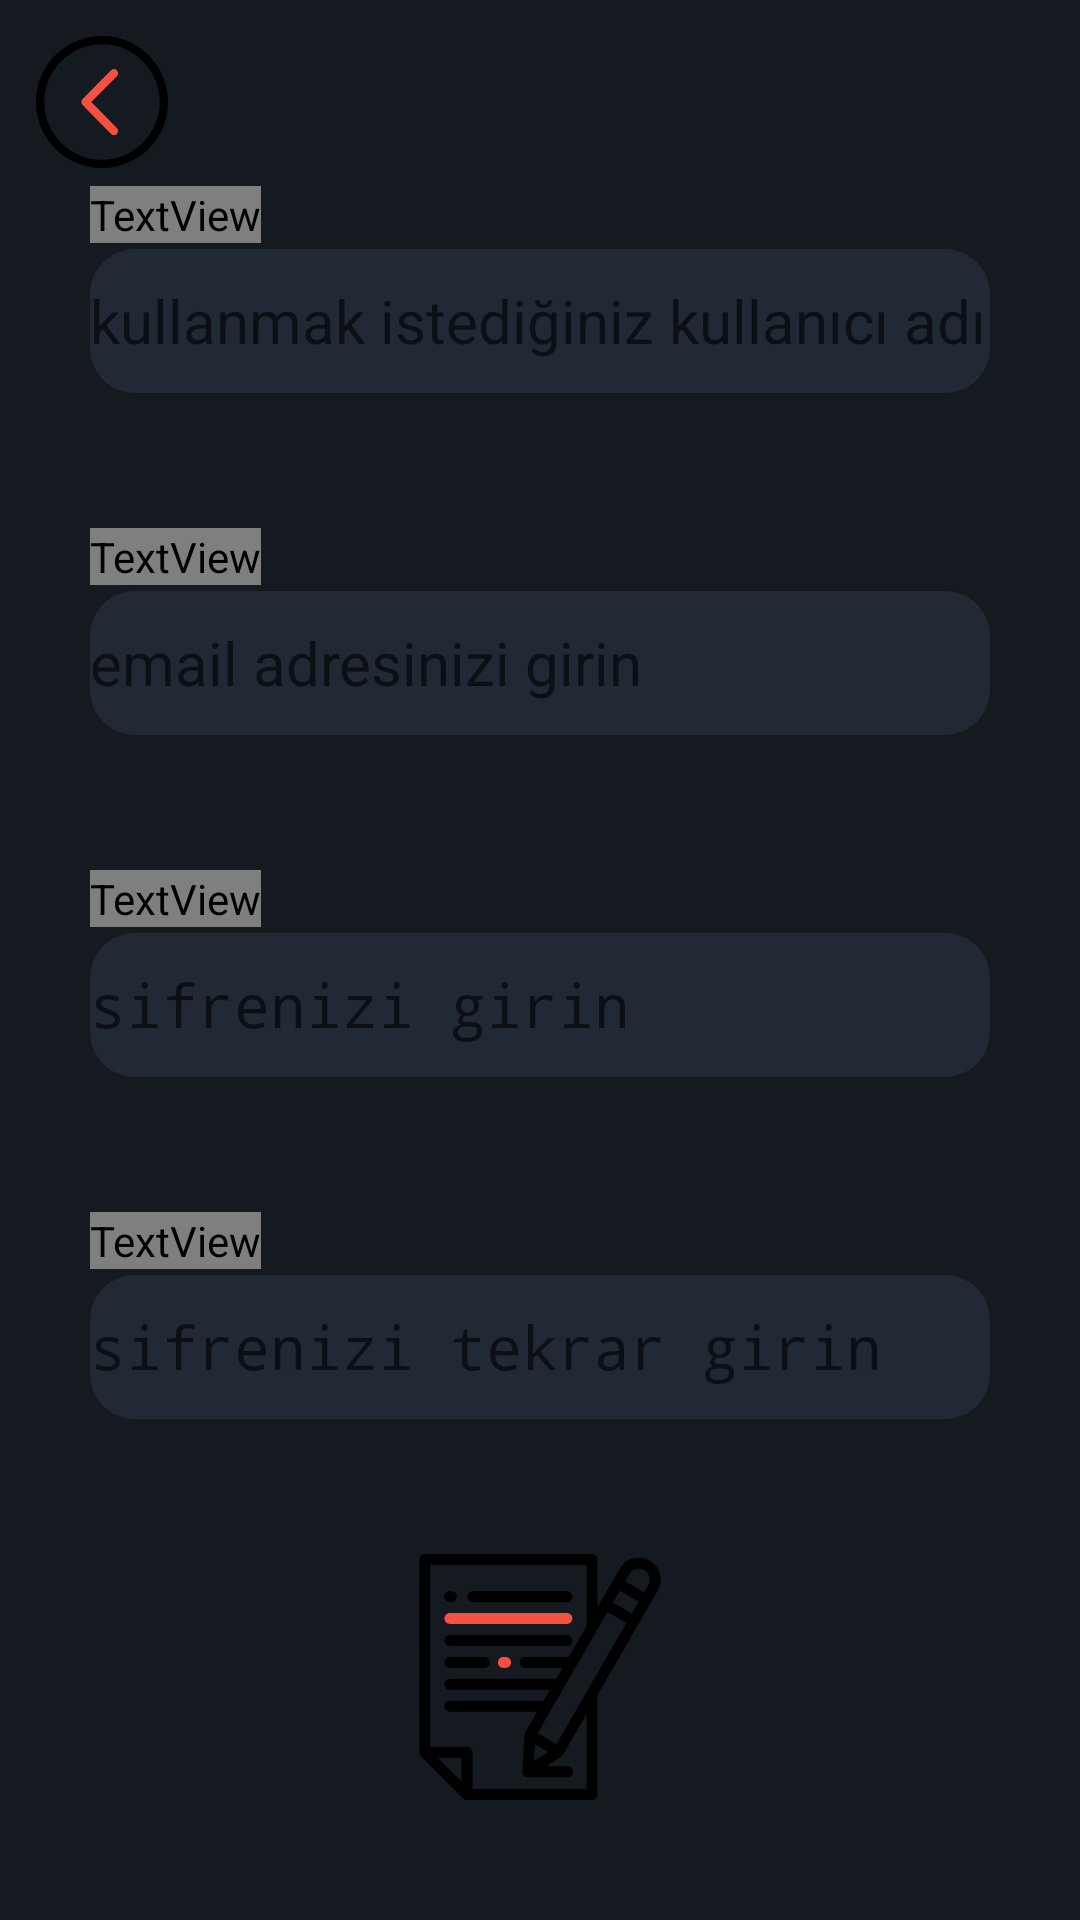

Icons on this 1080 × 1920 Android screen, each with the point to tap as [x,y]:
back: [102,102]
Kayıt Ol: [540,1677]
